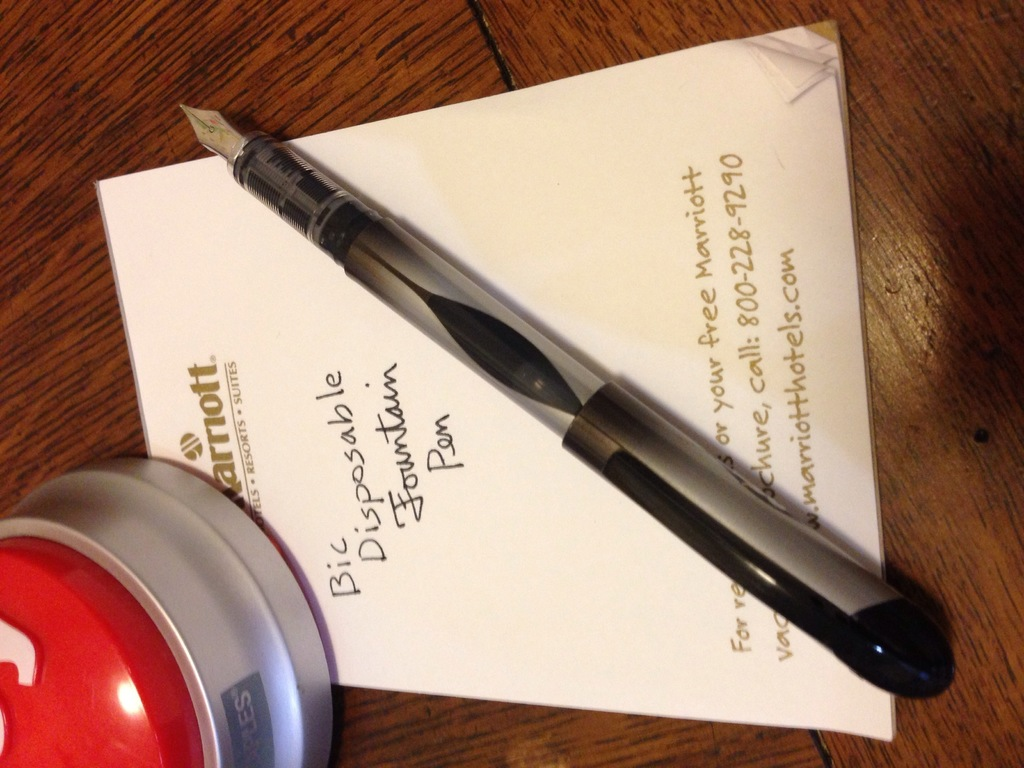Pen: (172, 100, 950, 716)
